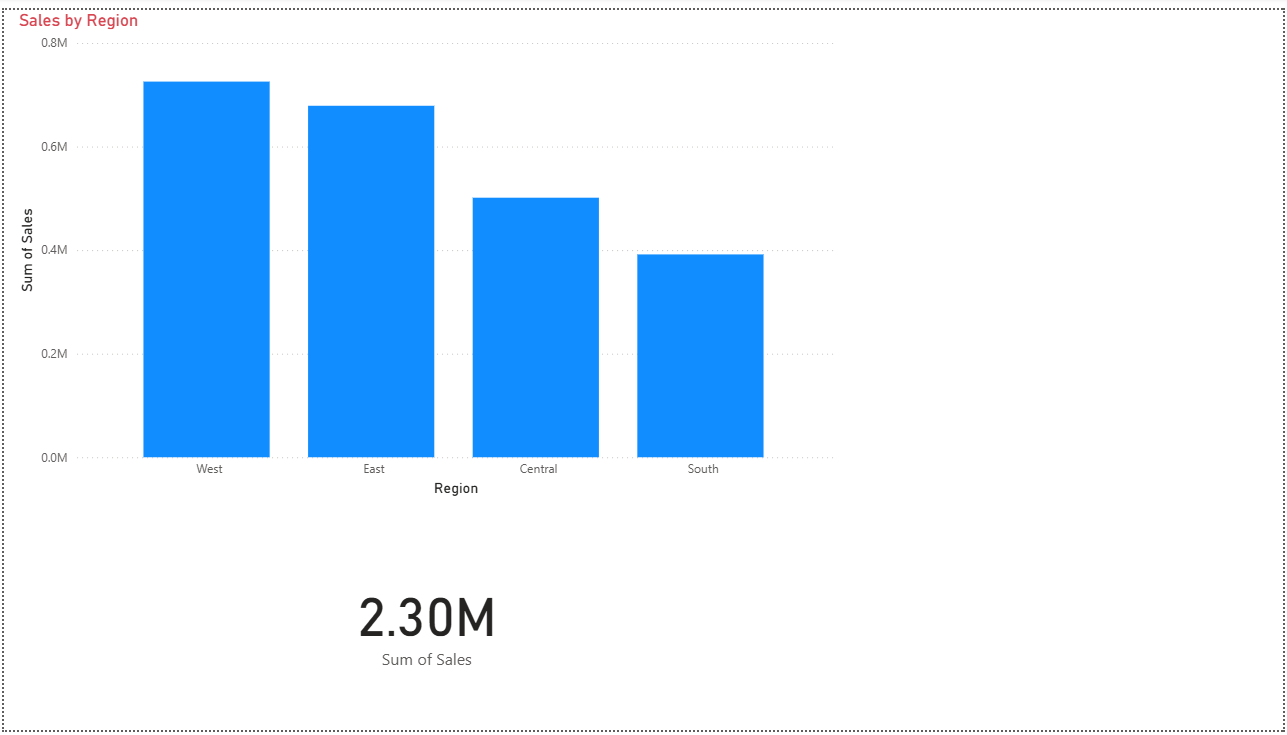

What the dashboard file says about the page in this screenshot:
{"tool":"powerbi","page":{"name":"Page 1","canvas":[1280,720],"ordinal":0},"visuals":[{"type":"clusteredColumnChart","title":"Sales by Region","fields":{"Y":["Sum(Sample - Superstore.Sales)"],"Category":["Sample - Superstore.Region"]},"box":[9.6,0,826.1,491.3],"z":0},{"type":"card","fields":{"Values":["Sum(Sample - Superstore.Sales)"]},"box":[10,501,826,219],"z":1}]}

Visuals, with their boxes in screenshot pixels (x1, y1, x2, y2), scaled from the page's 1280x720 canvas onto the 1287x735 screenshot:
"Sales by Region" clusteredColumnChart: {"left": 10, "top": 0, "right": 840, "bottom": 502}
card - Sum(Sample - Superstore.Sales): {"left": 10, "top": 511, "right": 841, "bottom": 734}
